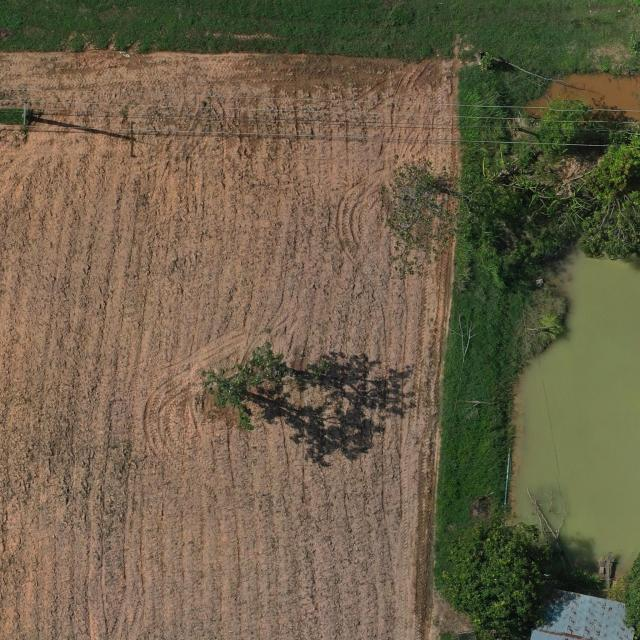Tree: (198, 340, 333, 430), (377, 154, 463, 282), (452, 518, 544, 631), (537, 96, 593, 158)
